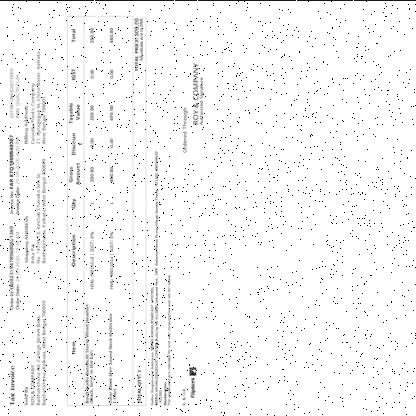Paragraph: (150, 148, 172, 406), (22, 299, 48, 406), (24, 157, 48, 264), (24, 48, 48, 145), (181, 61, 205, 153), (8, 224, 21, 310), (8, 132, 21, 214), (8, 66, 21, 118), (133, 16, 145, 72), (9, 364, 16, 405), (136, 368, 142, 404), (190, 376, 197, 398), (182, 386, 186, 406)
Table: (66, 15, 122, 405)
